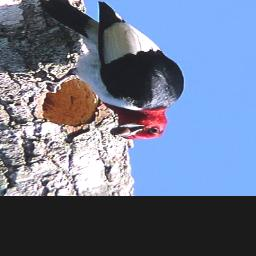Woodpecker: (24, 0, 190, 150)
